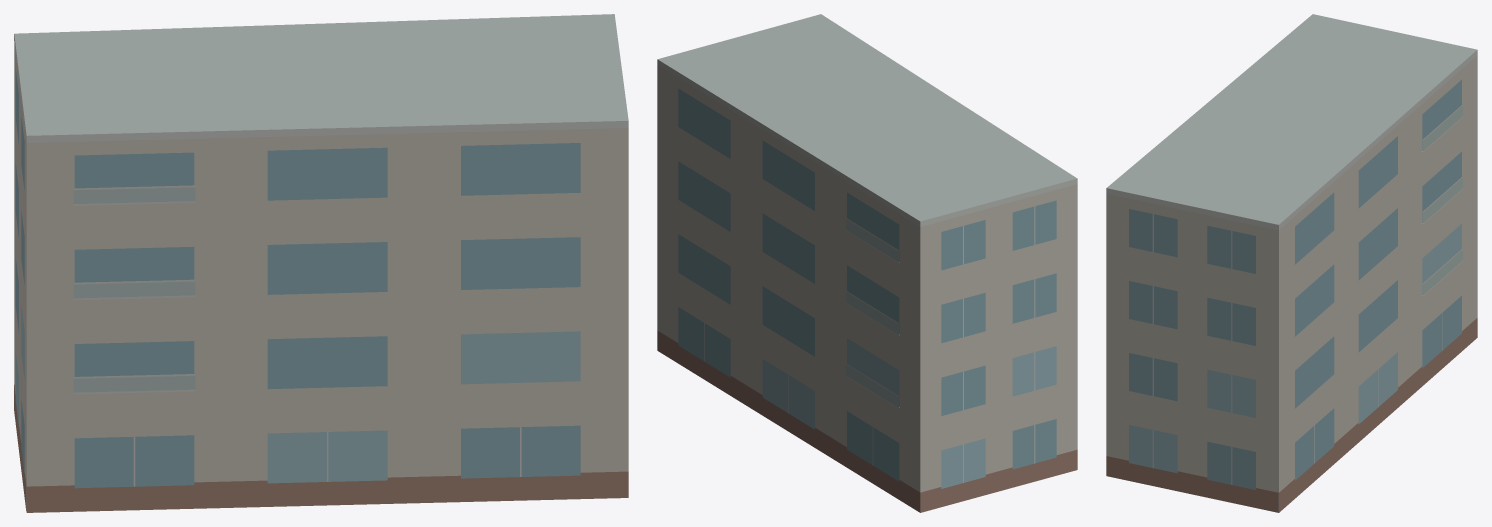
The model's file is survey-upis-32891805.glb.
3 views of the same model, side by side, from view 1: azimuth 30°, elevation 25°; view 2: azimuth 150°, elevation 25°; view 3: azimuth 270°, elevation 25° (orthographic). The views are drawn at different scales.
Visible parts, largest first — view 1: survey-upis-32891805.tmp; view 2: survey-upis-32891805.tmp; view 3: survey-upis-32891805.tmp.
Part boxes in pixels (box(x1,y1,x2,y2)): survey-upis-32891805.tmp: box(14, 14, 628, 512); survey-upis-32891805.tmp: box(657, 14, 1077, 512); survey-upis-32891805.tmp: box(1106, 14, 1477, 512).
Size of the model in its own units: 20.11 by 12.8 by 14.96.
